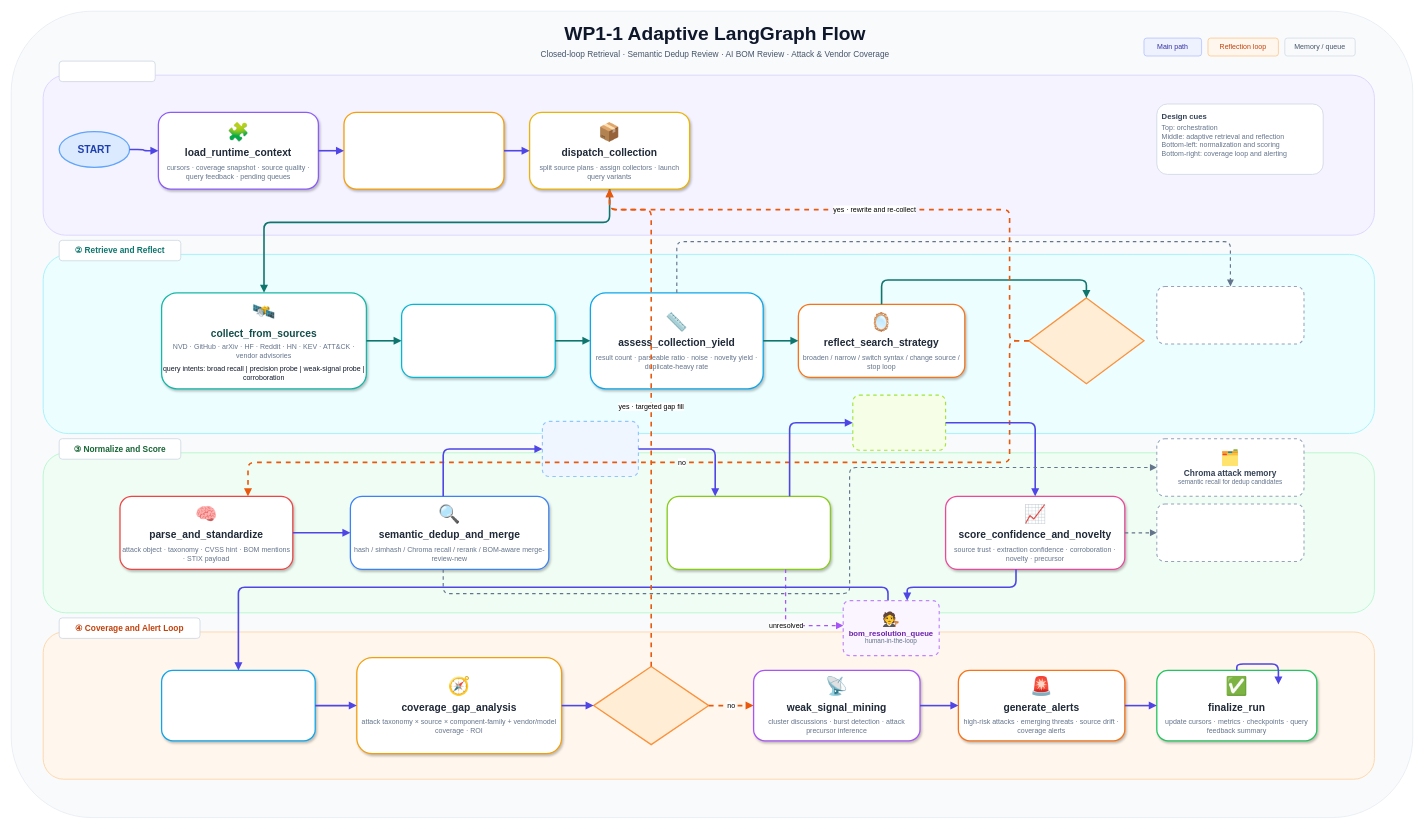
The diagram is 1424 pixels wide and 829 high, and some of its shapes have lost their labels. The centre of each missing label's shape, as x and y in pixels:
"① Orchestrate" belongs at (106,71).
"🎯 Gap fill worth it? gap high and ROI above threshold" belongs at (651,705).
"📊 refresh_coverage_view refresh aggregated coverage snapshot" belongs at (238,706).
"🔁 Need rewrite? yield low / noise high / source mismatch" belongs at (1086,340).
"🔎 bom_reviewer accept / revise / queue" belongs at (899,422).
"🗃️ artifact refs only state carries ids and summaries, not full payloads" belongs at (1230,532).
"🗄️ store_raw_records idempotent ingestion · hash dedup · artifact refs" belongs at (478,341).
"🧑‍⚖️ dedup_adjudicator review new / merge / review" belongs at (590,449).
"🧠 query_feedback_memory rewrite history · precision estimate · novelty yield" belongs at (1230,315).
"🧬 resolve_ai_bom alias normalize · exact / alias / fuzzy match · version resolve" belongs at (749,533).
"🧭 supervisor_plan run mode · source priority · query intent · reflection budget" belongs at (424,151).
